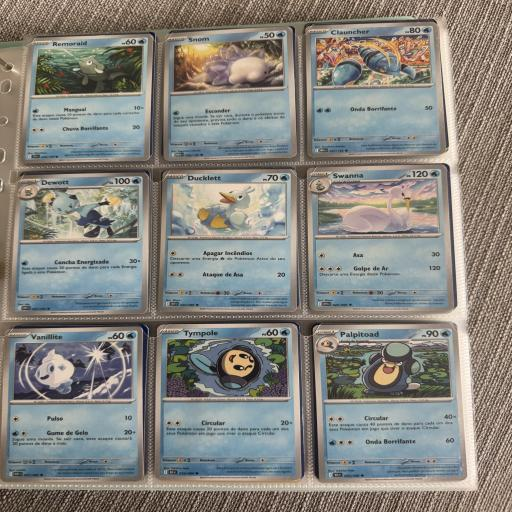card: (313, 319, 468, 486), (155, 323, 303, 480), (0, 326, 143, 482), (306, 165, 454, 315), (158, 169, 298, 313), (10, 172, 149, 316), (157, 27, 299, 164), (305, 21, 446, 157), (21, 32, 154, 166)
